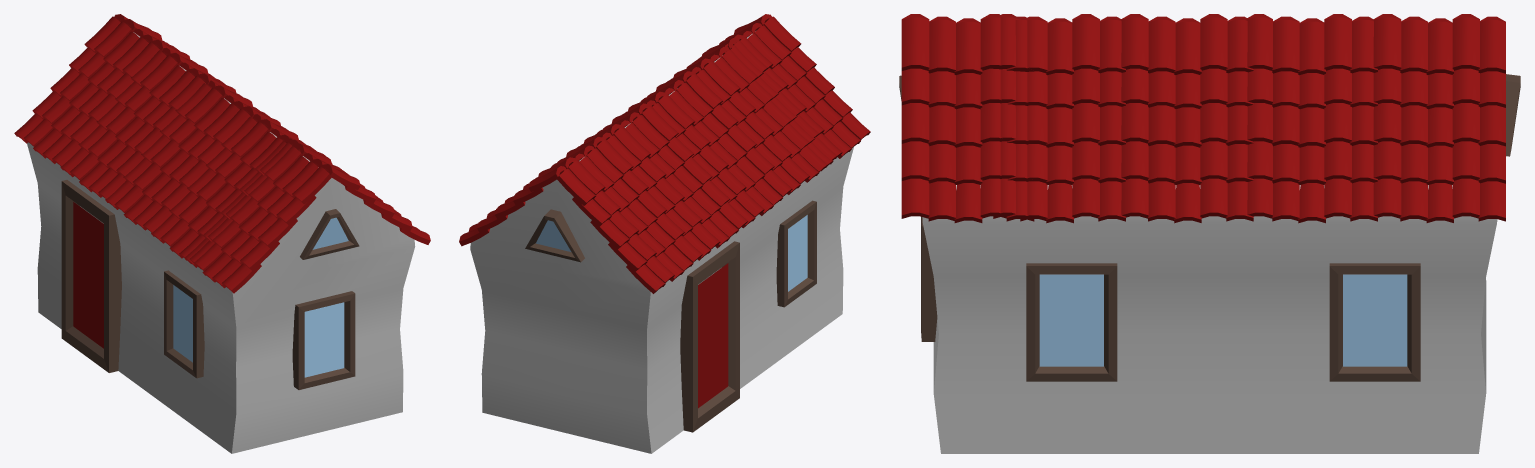
Rendered from house_blender.obj.
The picture shows the model from 3 angles, left to right: view 1: azimuth 30°, elevation 25°; view 2: azimuth 150°, elevation 25°; view 3: azimuth 270°, elevation 25°; orthographic projection. The views are drawn at different scales.
Visible parts, largest first — view 1: House; view 2: House; view 3: House.
Boxes of the visible parts, left/top/right/bottom form: House: left=14, top=14, right=430, bottom=453; House: left=459, top=14, right=870, bottom=453; House: left=899, top=14, right=1520, bottom=453.
Size of the model in its own units: 3.16 by 4.07 by 6.02.
